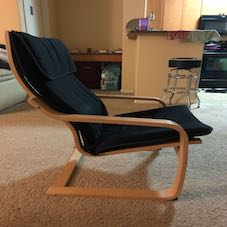chair: (3, 18, 212, 205)
